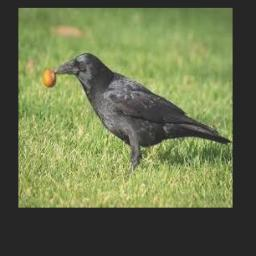Crow: (54, 52, 232, 170)
